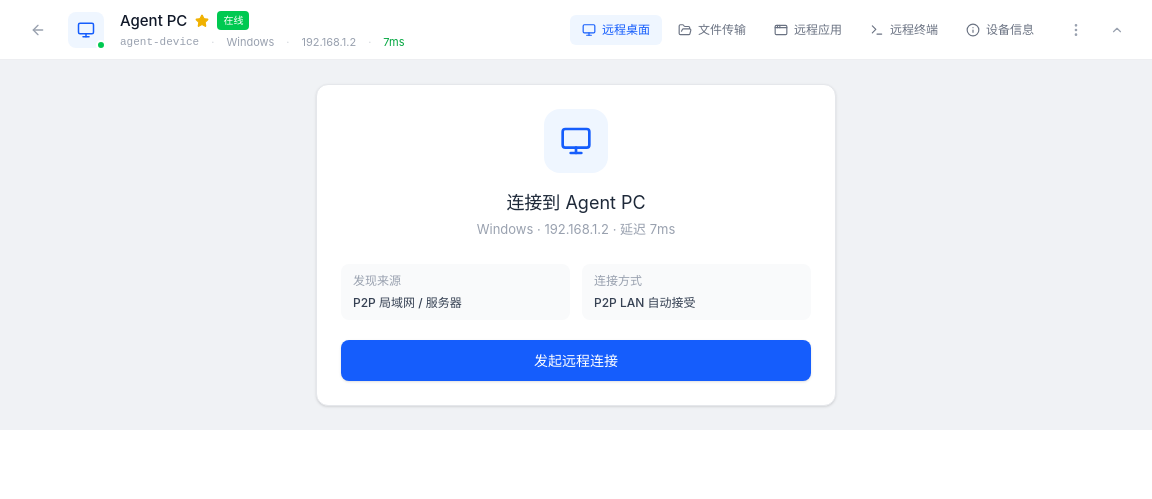
Test: DeviceDetailPage info tab › shows remote launch failures inline without a blocking browser alert
Click the button "发起远程连接" at (576, 360), box [341,340,811,380]
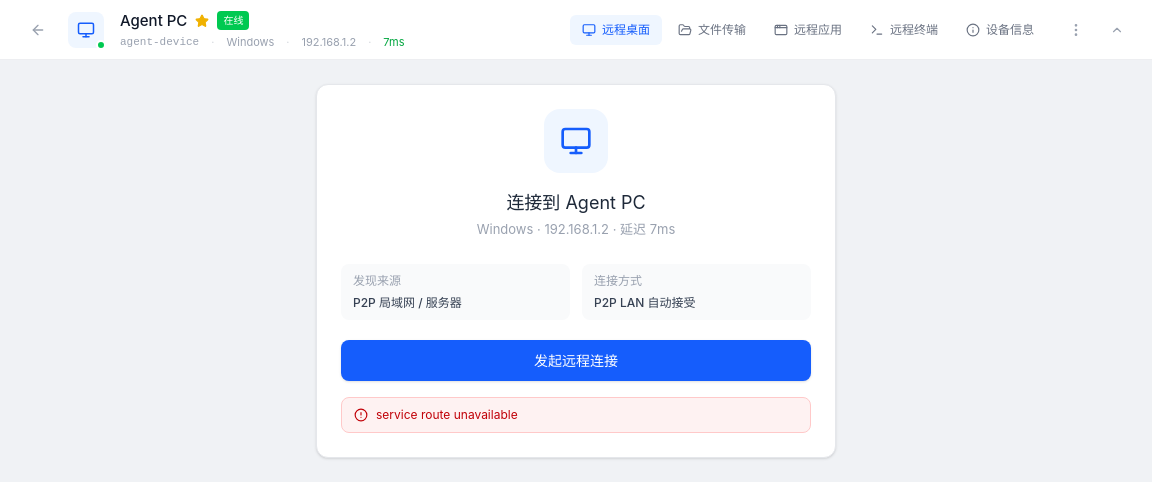
Expected: the message reads "service route unavailable", [376,406,518,422]
